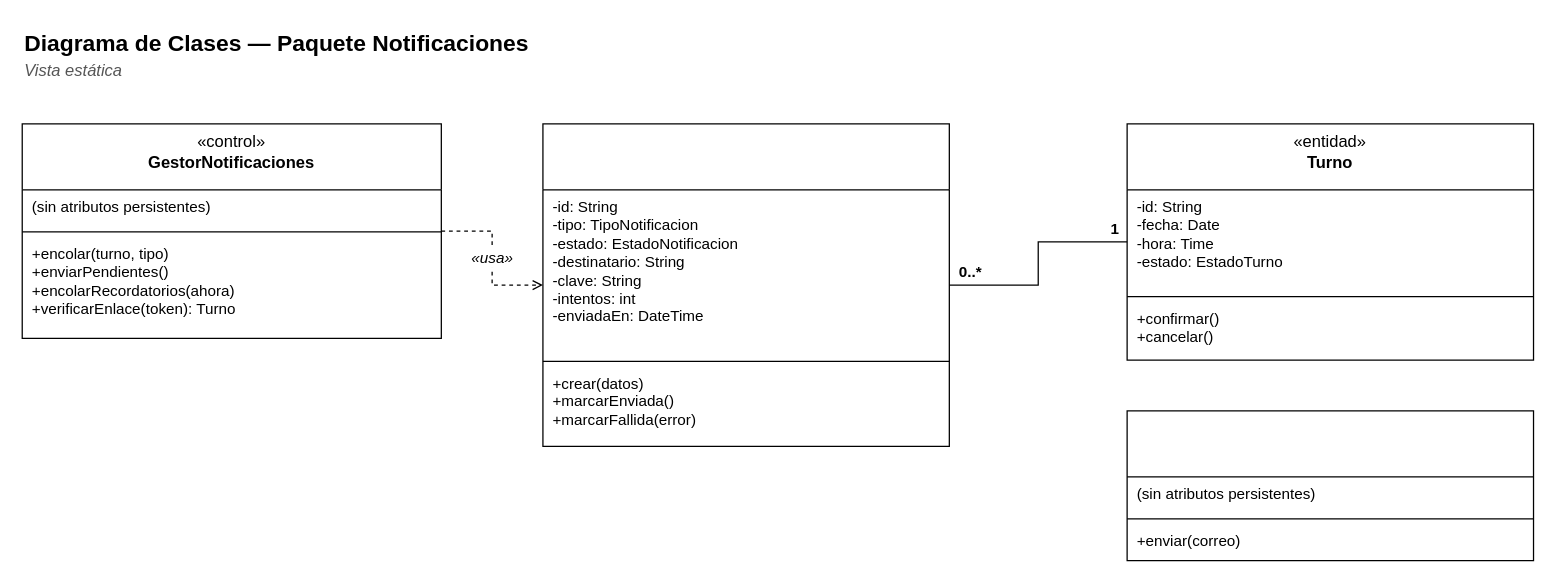
Image size: 1556x585. Some labels were removed from this diagram. Each missing label, with the box of its shape:
«entidad» Notificacion: (542, 123, 949, 446)
«sistema» ServicioDeCorreo: (1126, 410, 1534, 561)
